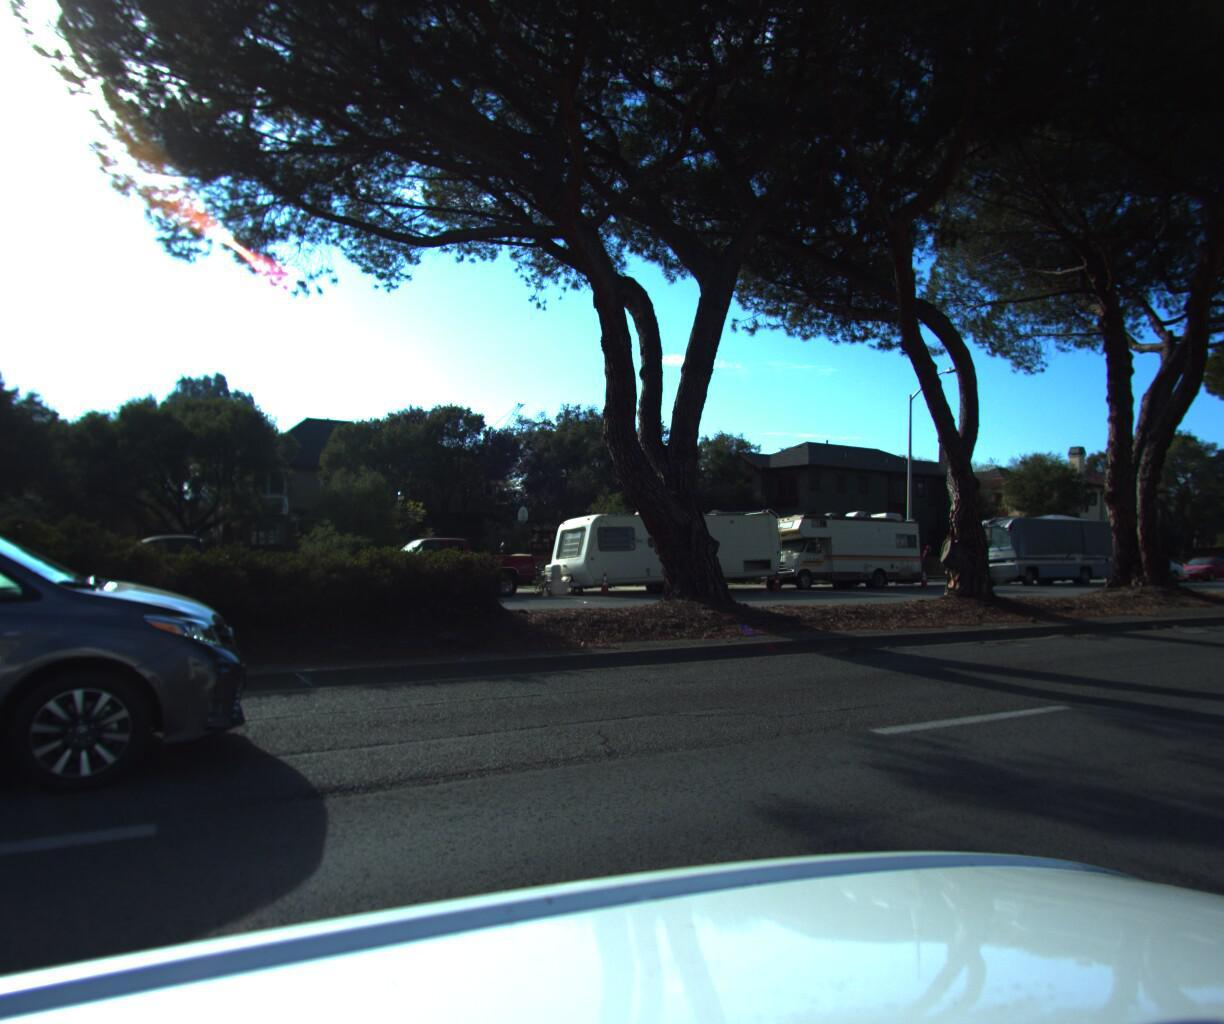car: (333, 533, 544, 606), (54, 533, 232, 613), (1093, 550, 1183, 580), (1161, 551, 1224, 579)
other_vehicle: (540, 497, 791, 597), (743, 499, 944, 593), (956, 503, 1127, 587)
